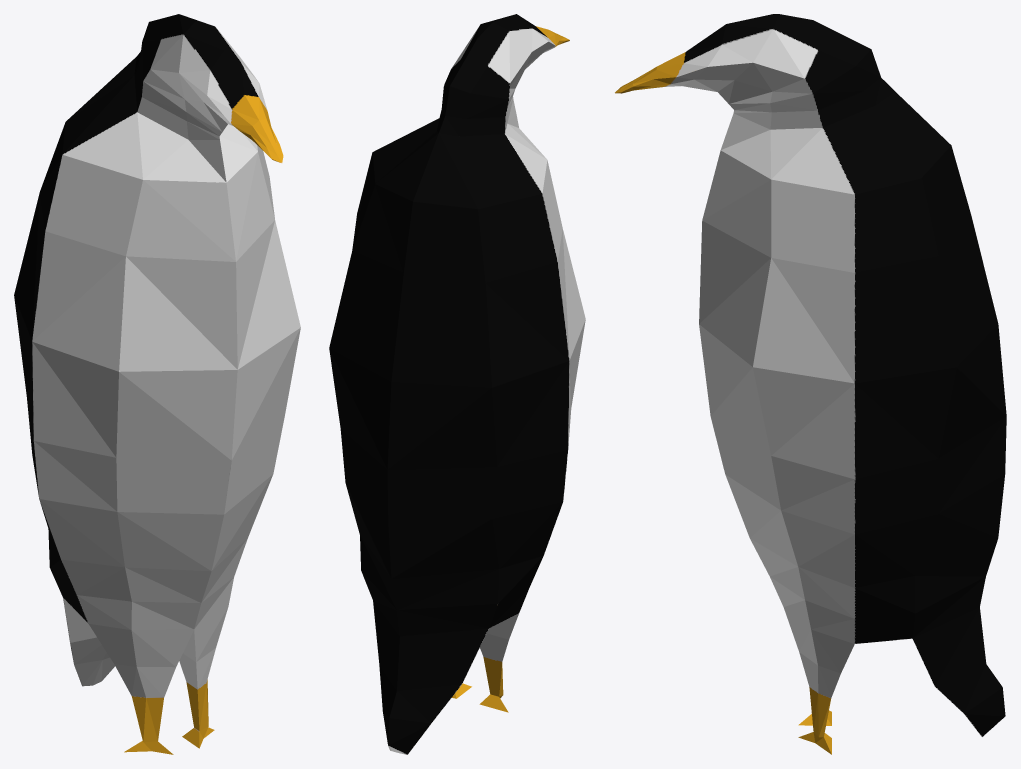
Rendered from pinguino.fbx.
3 views of the same model, side by side, from view 1: azimuth 30°, elevation 25°; view 2: azimuth 150°, elevation 25°; view 3: azimuth 270°, elevation 25° (orthographic). The views are drawn at different scales.
Visible parts, largest first — view 1: pinguino; view 2: pinguino; view 3: pinguino.
Boxes of the visible parts, box(x1,y1,x2,y2) form: pinguino: box(14, 14, 300, 754); pinguino: box(329, 14, 585, 754); pinguino: box(615, 14, 1006, 754).
Size of the model in its own units: 168 by 475 by 235.
1 material, 1 textured.
